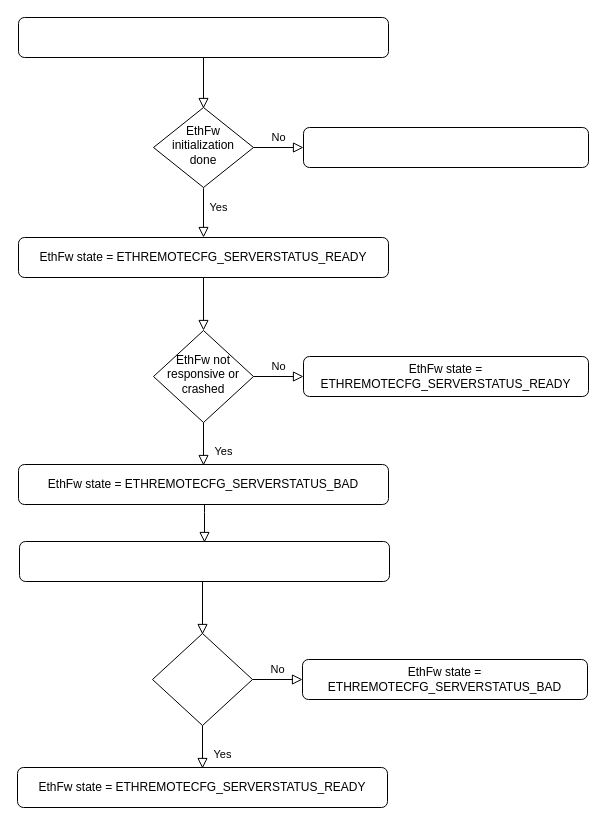
Image size: 606x825. Some labels were removed from this diagram. Here are the shapes that lost their labels. From the top down, the centre of each, then its label:
At point 203,37: "App main start: EthFw state = ETHREMOTECFG_SERVERSTATUS_UNINIT".
At point 445,147: "EthFw state = ETHREMOTECFG_SERVERSTATUS_UNINIT".
At point 204,561: "Recovery is triggered. EthFw state = ETHREMOTECFG_SERVERSTATUS_RECOVERY".
At point 202,679: "Recovery successful".
